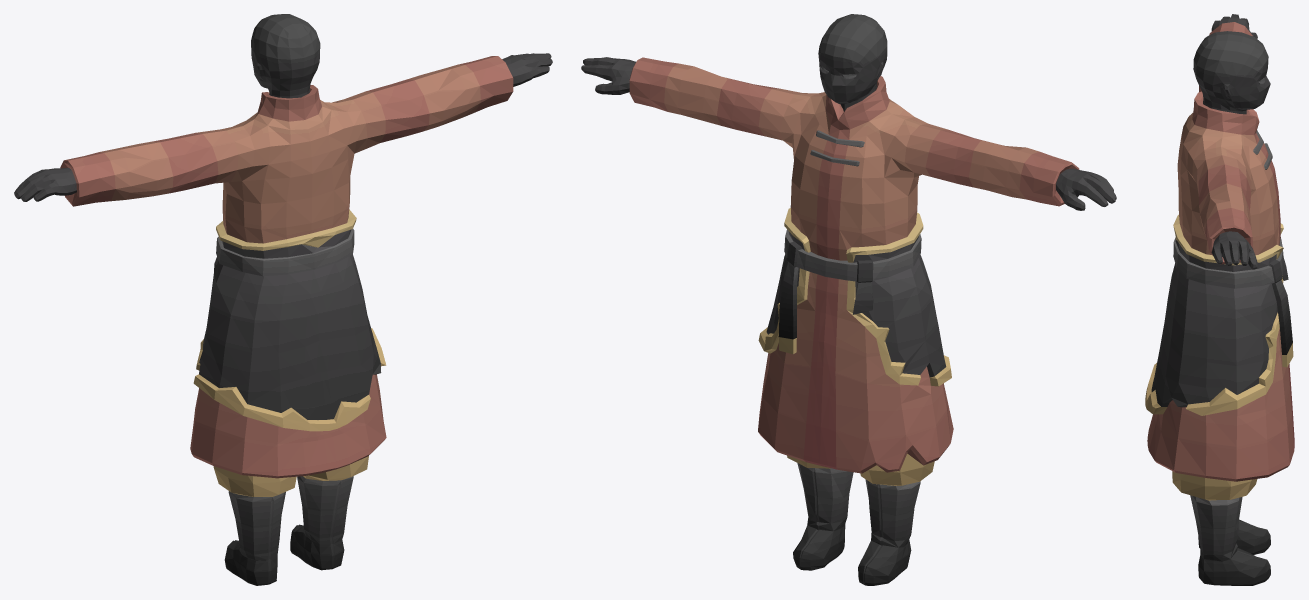
File: NPC_AP21Coat.glb
3 renders of one model, left to right at view 1: azimuth 30°, elevation 25°; view 2: azimuth 150°, elevation 25°; view 3: azimuth 270°, elevation 25°, orthographic. The views are drawn at different scales.
Parts seen in each view (by area): view 1: NPC_AP21Coat; view 2: NPC_AP21Coat; view 3: NPC_AP21Coat.
Boxes of the visible parts, x1,y1,x2,y2 form: NPC_AP21Coat: [14, 14, 552, 585]; NPC_AP21Coat: [581, 14, 1116, 585]; NPC_AP21Coat: [1145, 14, 1294, 585].
Size of the model in its own units: 13.97 by 13.67 by 3.5.
1 material, 1 textured.
